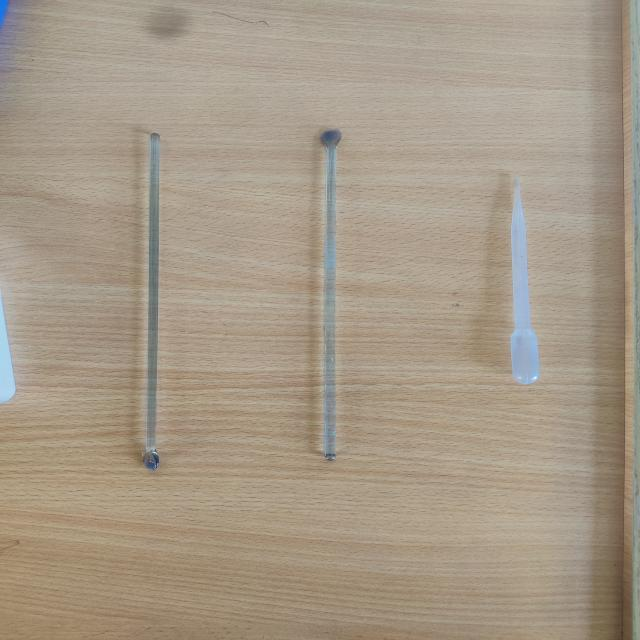Glass_Rod: (254, 95, 406, 482), (97, 111, 210, 481)
Pipette: (474, 159, 586, 404)
